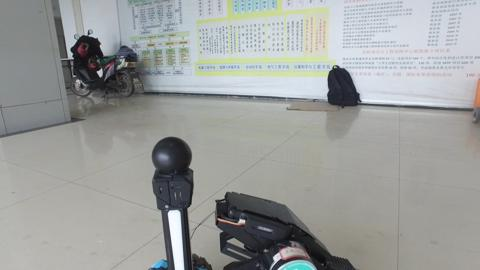bag: (313, 47, 372, 114)
chariot: (156, 119, 332, 270)
